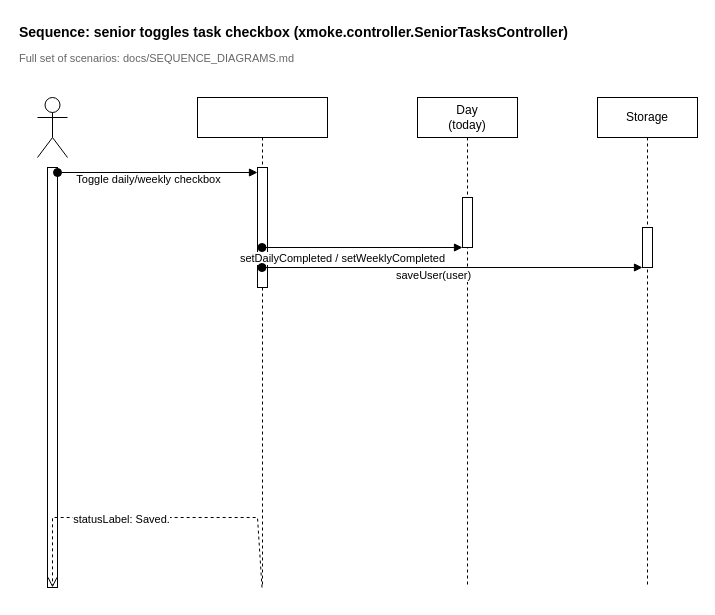
Some shapes in this 715 by 615 pixel diagram are drawn without their labels. The shapes that lost their labels are listed below. From the top down, each one's box as (x1, y1, x2, y2) in pixels, then its label:
(36, 96, 68, 158): Senior
(196, 96, 328, 588): xmoke.controller.SeniorTasksController
